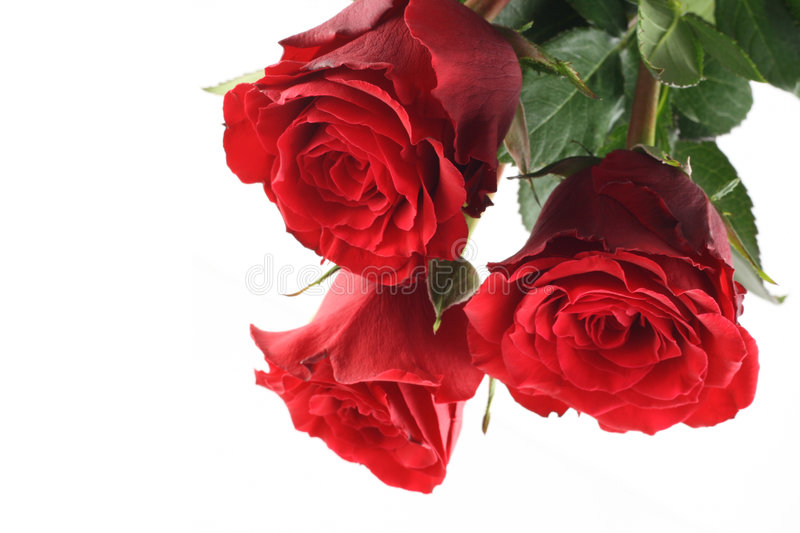RedRose: (199, 13, 529, 296), (480, 152, 792, 425), (230, 249, 491, 512)
